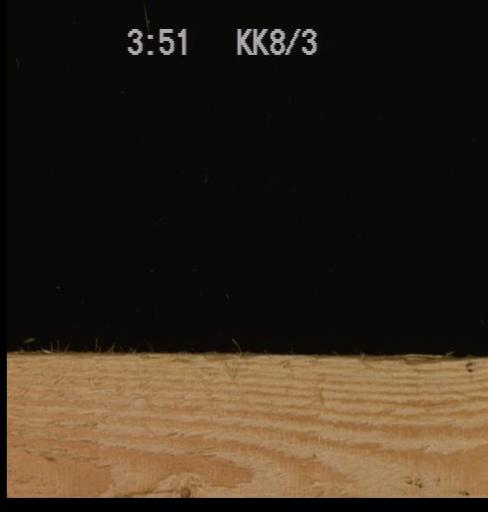edge_knot: (176, 483, 189, 496)
